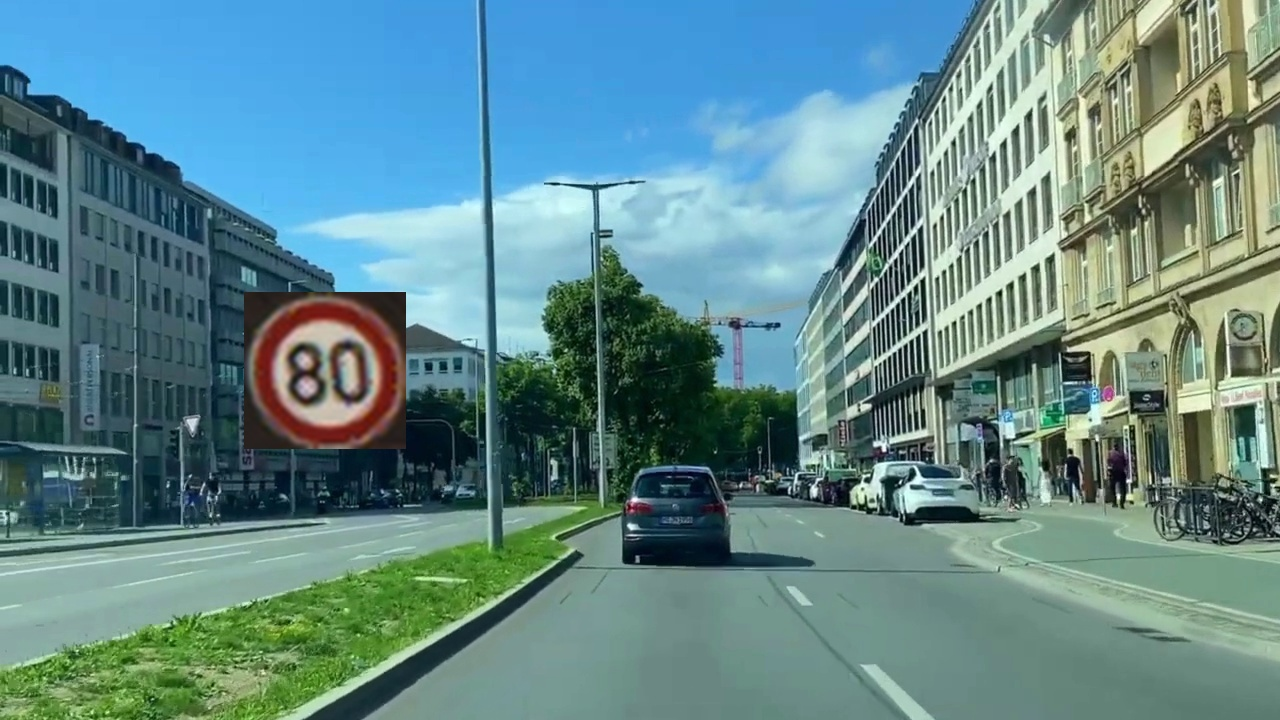Speed 80: (244, 292, 406, 449)
